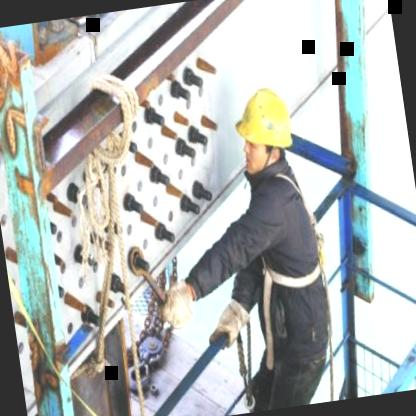helmet: (231, 78, 301, 186)
